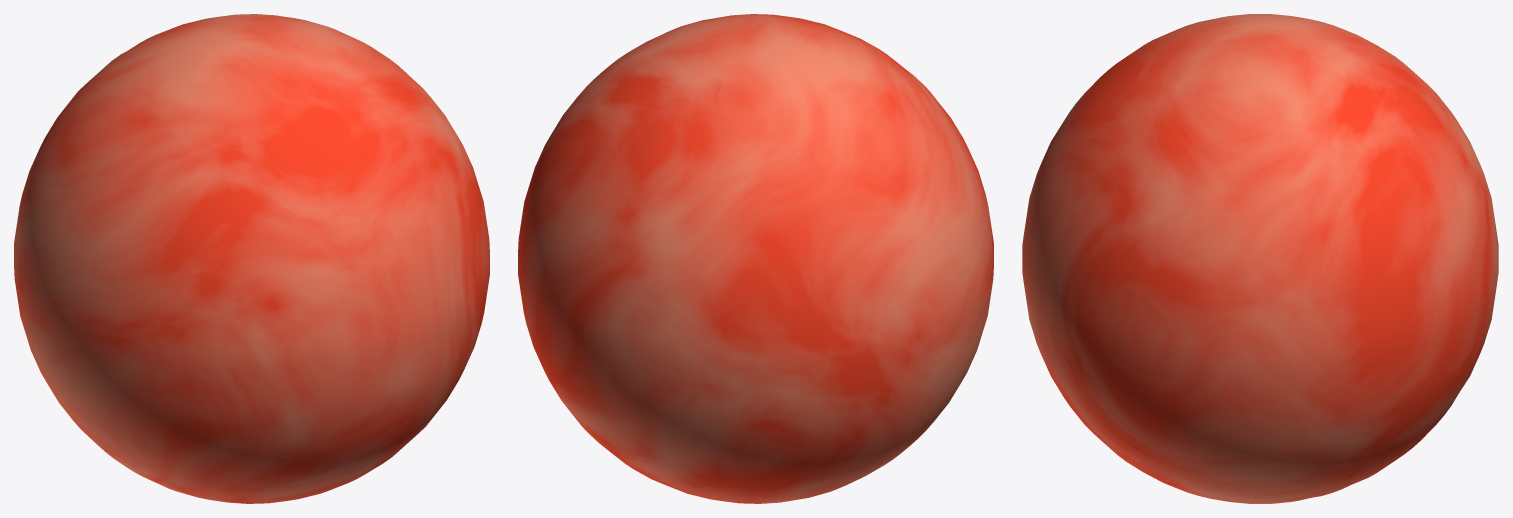
The model's file is planets2 (1).fbx.
3 views of the same model, side by side, from view 1: azimuth 30°, elevation 25°; view 2: azimuth 150°, elevation 25°; view 3: azimuth 270°, elevation 25° (orthographic).
Visible parts, largest first — view 1: planet3.002; view 2: planet3.002; view 3: planet3.002.
Part boxes in pixels (left/top/right/bottom): planet3.002: left=14, top=14, right=489, bottom=503; planet3.002: left=518, top=14, right=993, bottom=503; planet3.002: left=1022, top=14, right=1498, bottom=503.
Size of the model in its own units: 210 by 218 by 210.
Materials: 1 (1 with a texture image).
